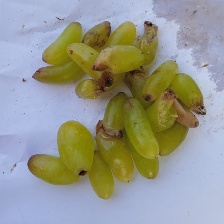grapes: (29, 28, 224, 208)
